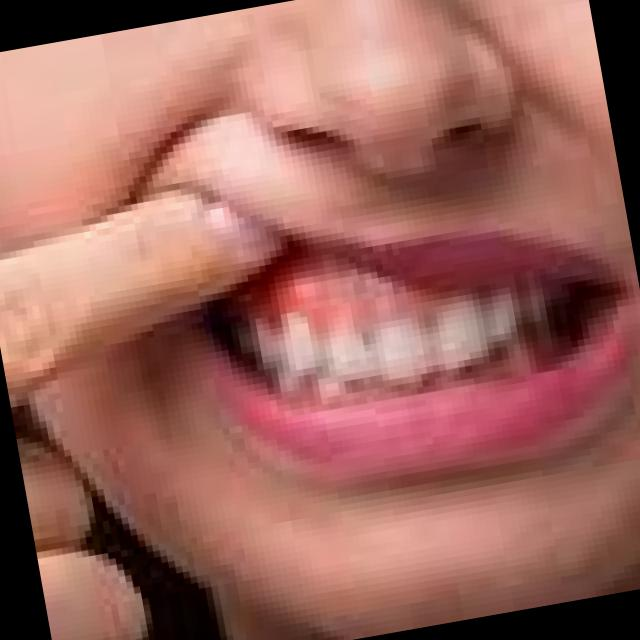abscess: (258, 262, 357, 342)
